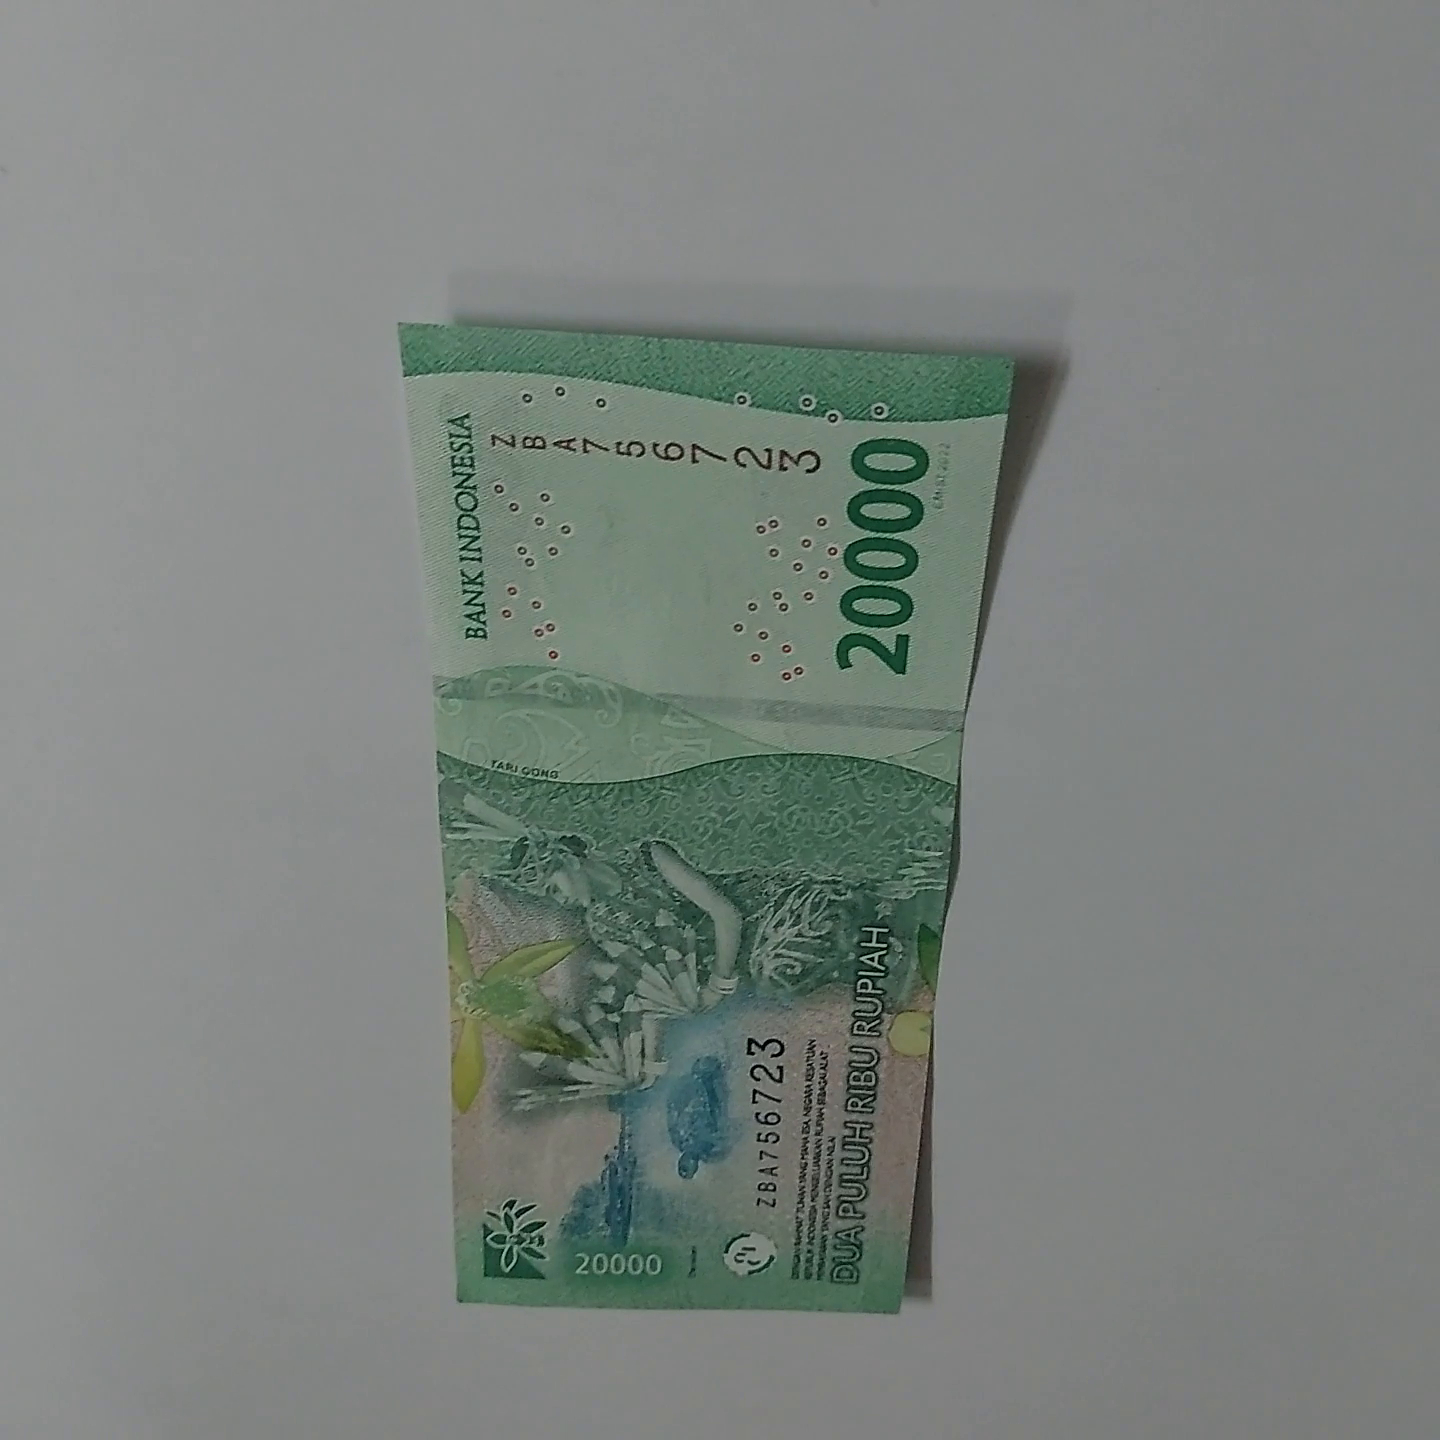20k: (373, 154, 1067, 1361)
